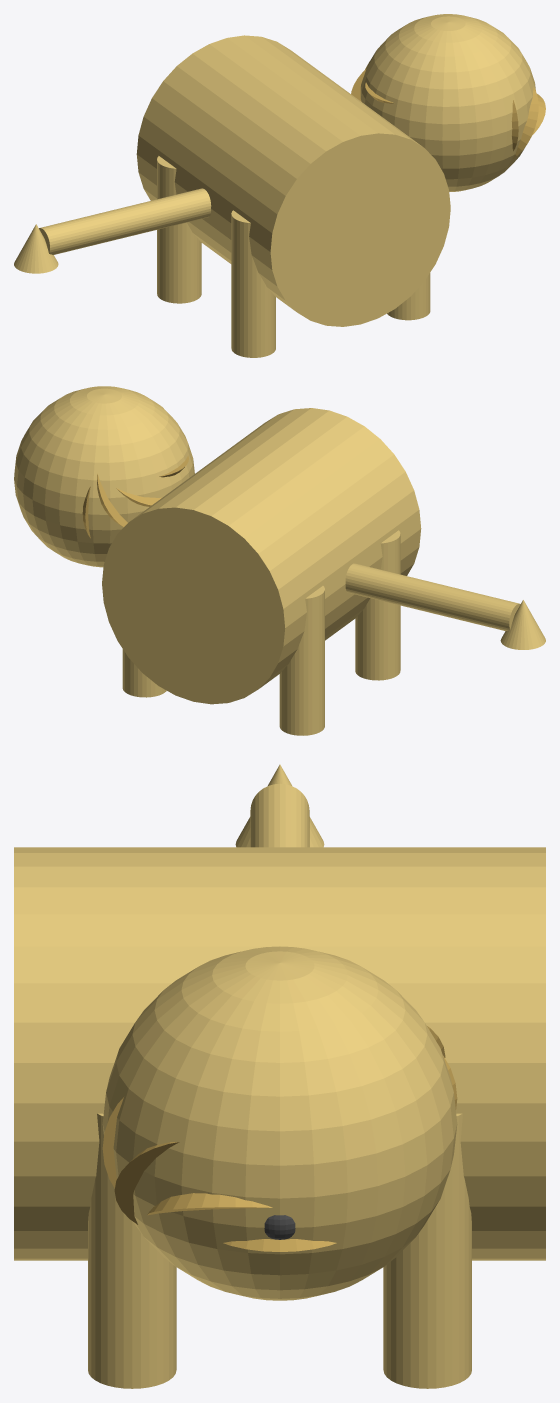
File: lion.glb
3 renders of one model, top to bottom at view 1: azimuth 30°, elevation 25°; view 2: azimuth 150°, elevation 25°; view 3: azimuth 270°, elevation 25°, orthographic. The views are drawn at different scales.
Visible parts, largest first — view 1: lion_body, lion_head, lion_tail_base, lion_leg_3, lion_leg_2, lion_tail_tuft, lion_leg_1, lion_mane_10; view 2: lion_body, lion_head, lion_tail_base, lion_leg_2, lion_leg_3, lion_tail_tuft, lion_leg_0, lion_mane_4; view 3: lion_body, lion_head, lion_leg_0, lion_leg_1, lion_tail_base, lion_mane_10, lion_mane_11, lion_mane_0, lion_tail_tuft, lion_mane_9.
Part boxes in pixels (<box>): lion_body: <box>136,35,450,326</box>; lion_head: <box>360,14,535,191</box>; lion_tail_base: <box>39,188,211,254</box>; lion_leg_3: <box>231,210,275,357</box>; lion_leg_2: <box>157,156,201,303</box>; lion_tail_tuft: <box>14,224,58,273</box>; lion_leg_1: <box>387,273,430,320</box>; lion_mane_10: <box>513,87,538,158</box>; lion_body: <box>102,408,421,704</box>; lion_head: <box>14,386,194,567</box>; lion_tail_base: <box>345,563,520,630</box>; lion_leg_2: <box>279,586,324,735</box>; lion_leg_3: <box>355,530,400,680</box>; lion_tail_tuft: <box>500,600,545,649</box>; lion_leg_0: <box>122,649,166,697</box>; lion_mane_4: <box>97,473,127,527</box>; lion_body: <box>14,847,545,1260</box>; lion_head: <box>102,946,457,1300</box>; lion_leg_0: <box>383,1113,471,1388</box>; lion_leg_1: <box>88,1113,176,1388</box>; lion_tail_base: <box>250,783,309,847</box>; lion_mane_10: <box>114,1142,179,1224</box>; lion_mane_11: <box>147,1193,272,1215</box>; lion_mane_0: <box>223,1239,336,1251</box>; lion_tail_tuft: <box>235,764,324,847</box>; lion_mane_9: <box>102,1097,123,1188</box>.
Bounding box in the file's own units: 3.97 × 1.8 × 1.8.
